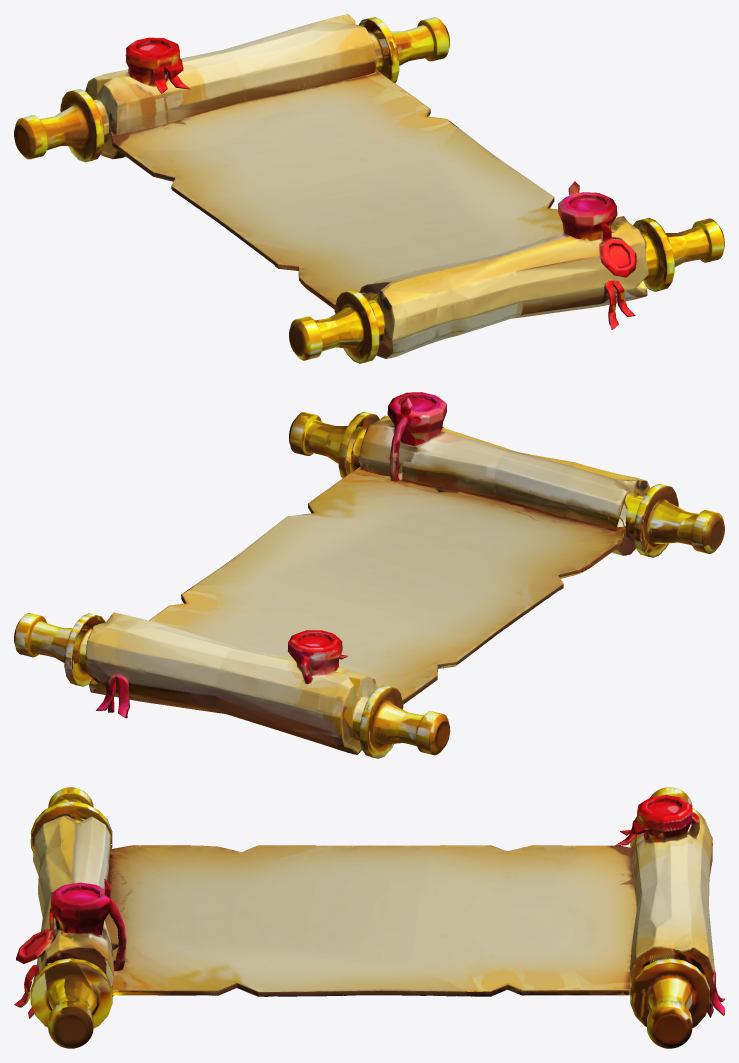
The model's file is Pergamino2.fbx.
3 views of the same model, one above another, from view 1: azimuth 30°, elevation 25°; view 2: azimuth 150°, elevation 25°; view 3: azimuth 270°, elevation 25° (orthographic). The views are drawn at different scales.
Parts seen in each view (by area): view 1: Mesh_0; view 2: Mesh_0; view 3: Mesh_0.
Part boxes in pixels (x1,y1,x2,y2): Mesh_0: (14,14,724,363); Mesh_0: (14,392,724,758); Mesh_0: (14,787,724,1048).
Size of the model in its own units: 76.52 by 20.56 by 103.
